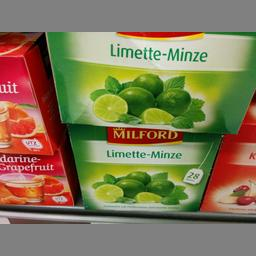tea: (44, 31, 254, 135), (65, 121, 223, 215)
